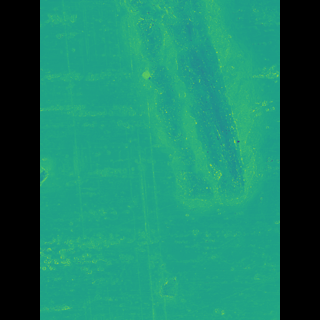Loch: (125, 0, 237, 217)
